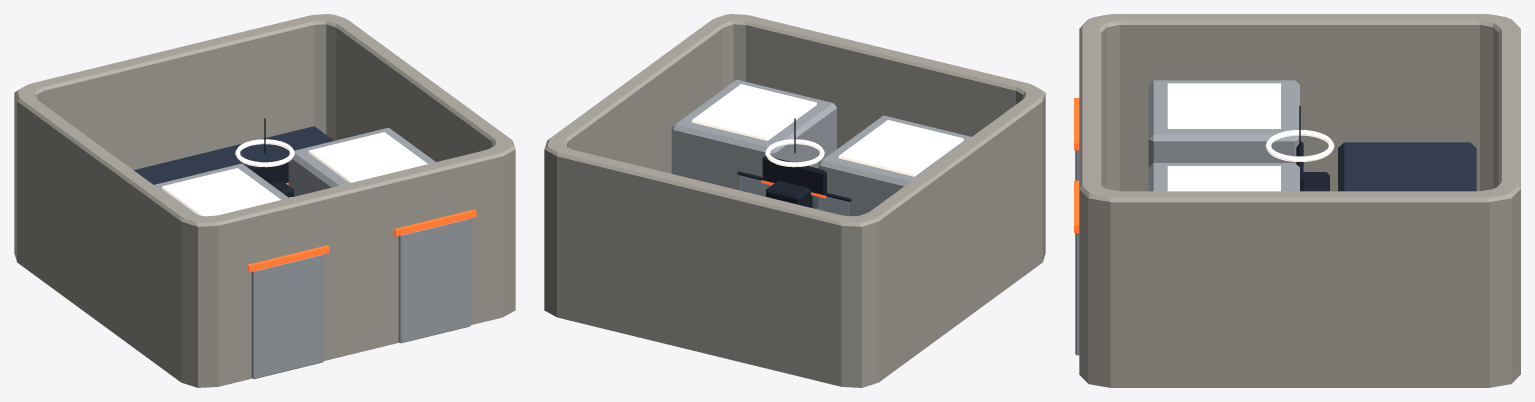
File: kit.glb
The picture shows the model from 3 angles, left to right: view 1: azimuth 30°, elevation 25°; view 2: azimuth 150°, elevation 25°; view 3: azimuth 270°, elevation 25°; orthographic projection. The views are drawn at different scales.
Visible parts, largest first — view 1: KIT_NucleoCorte, KIT_Pendente, KIT_Totem; view 2: KIT_NucleoCorte, KIT_Totem, KIT_Divisoria, KIT_Servidor, KIT_Pendente; view 3: KIT_NucleoCorte, KIT_Pendente, KIT_Servidor.
Boxes of the visible parts, <box> form: KIT_NucleoCorte: <box>14,14,515,387</box>; KIT_Pendente: <box>235,118,294,167</box>; KIT_Totem: <box>247,158,288,185</box>; KIT_NucleoCorte: <box>544,14,1045,387</box>; KIT_Totem: <box>761,156,826,198</box>; KIT_Divisoria: <box>737,171,851,215</box>; KIT_Servidor: <box>766,180,818,208</box>; KIT_Pendente: <box>765,118,824,167</box>; KIT_NucleoCorte: <box>1074,14,1520,387</box>; KIT_Pendente: <box>1265,106,1334,161</box>; KIT_Servidor: <box>1303,172,1329,191</box>.
Bounding box in the file's own units: 7 × 3.83 × 7.08.
